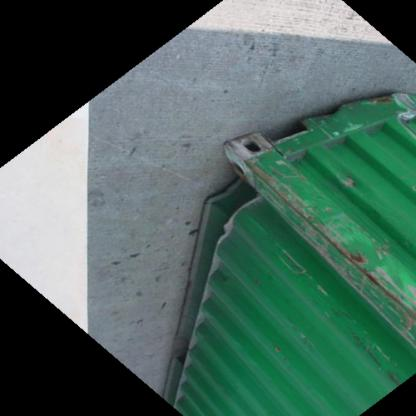Damage: (255, 152, 413, 343), (266, 338, 292, 372)
